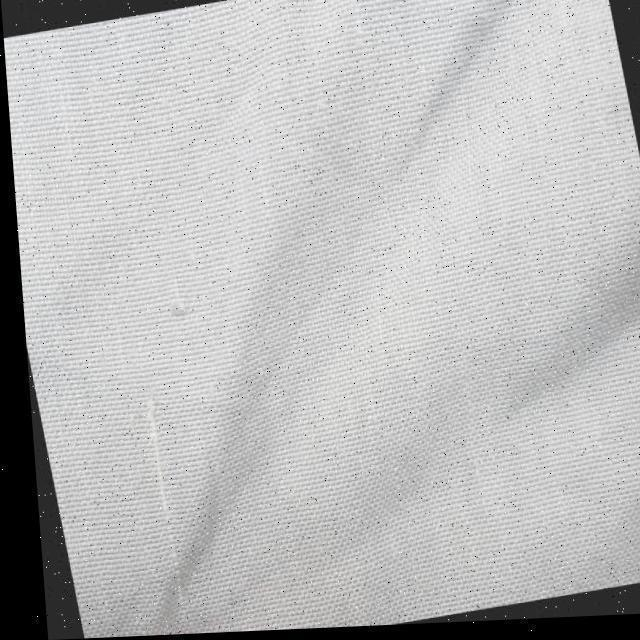pulled_or_thick_thread: (136, 400, 172, 612)
